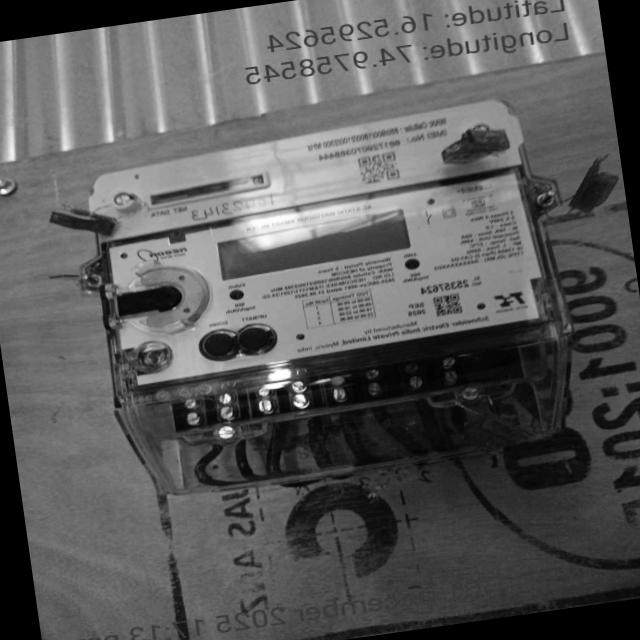meter: (80, 98, 554, 388)
